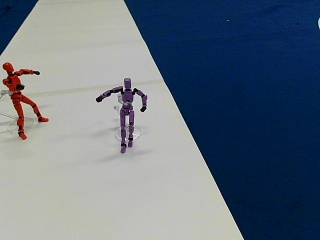pedestrian: (96, 78, 147, 150), (1, 60, 47, 137)
